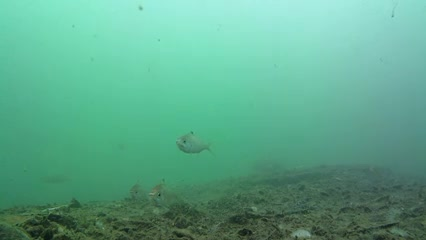smallfish: (169, 131, 217, 163)
